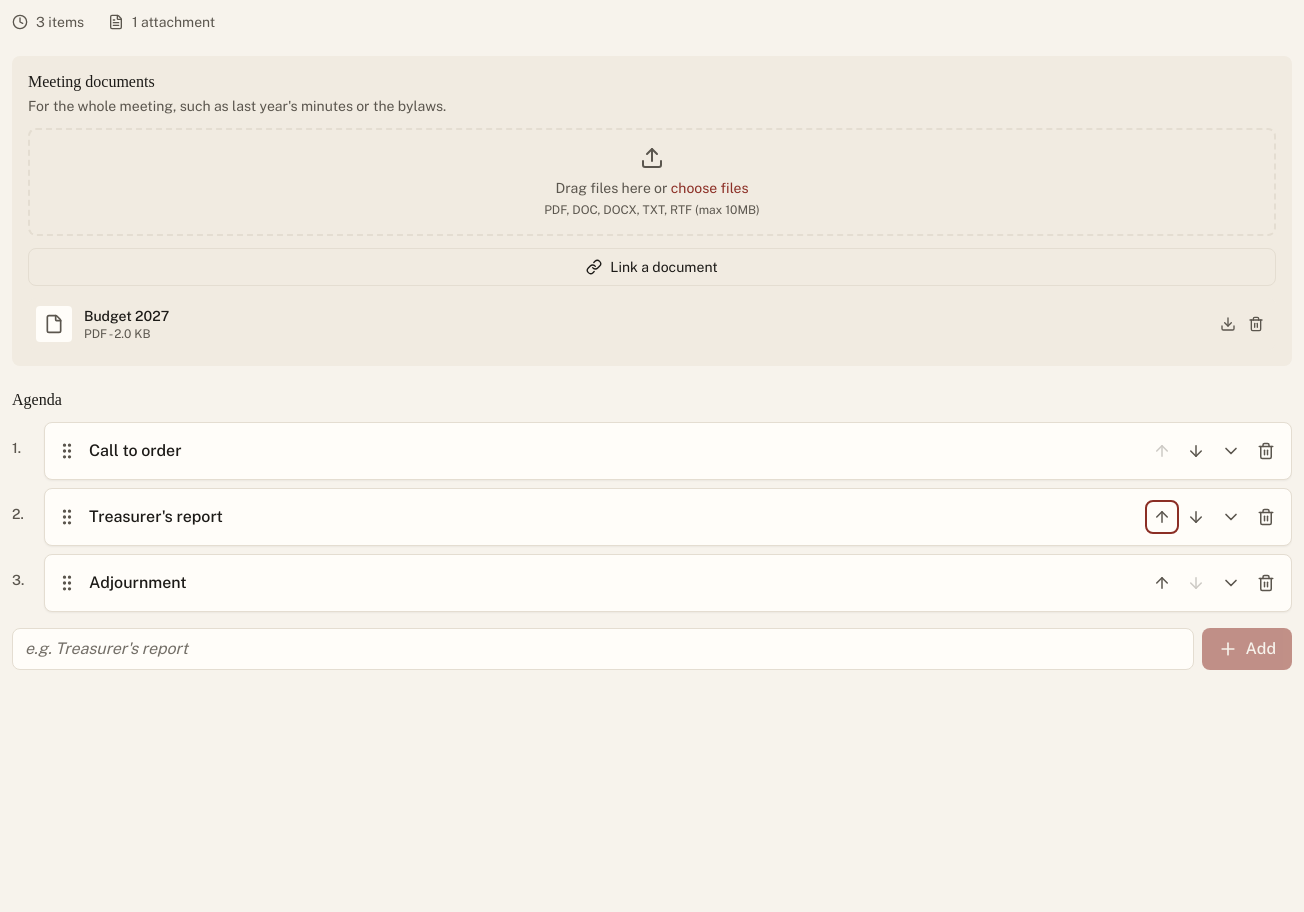
PacketBuilder › shows the server's refusal and puts the order back
Click the button named "Move Treasurer's report up" at (1162, 517), box [1149, 504, 1175, 530]
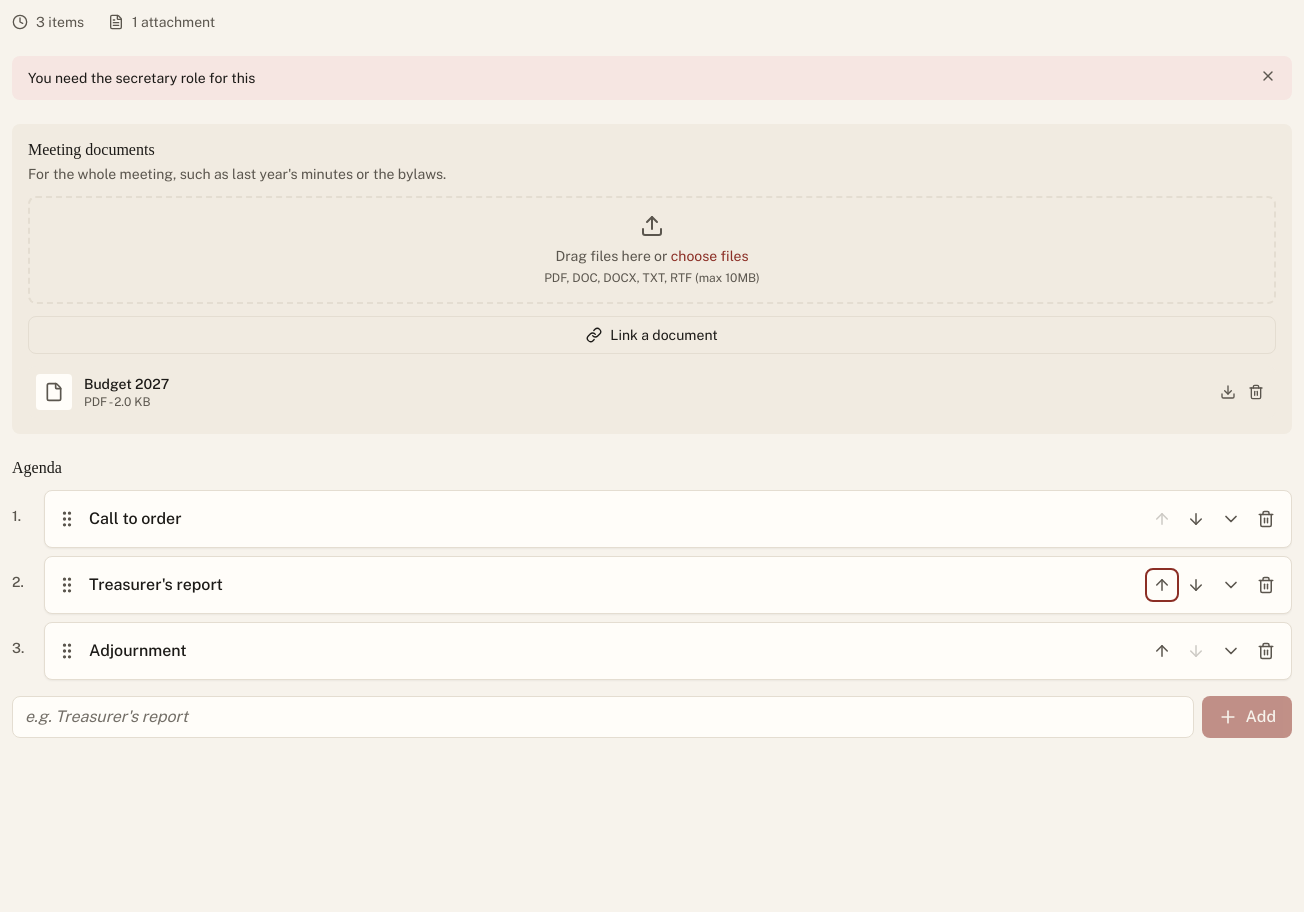
Check: the message reads "You need the secretary role for this", box [28, 70, 255, 86]
